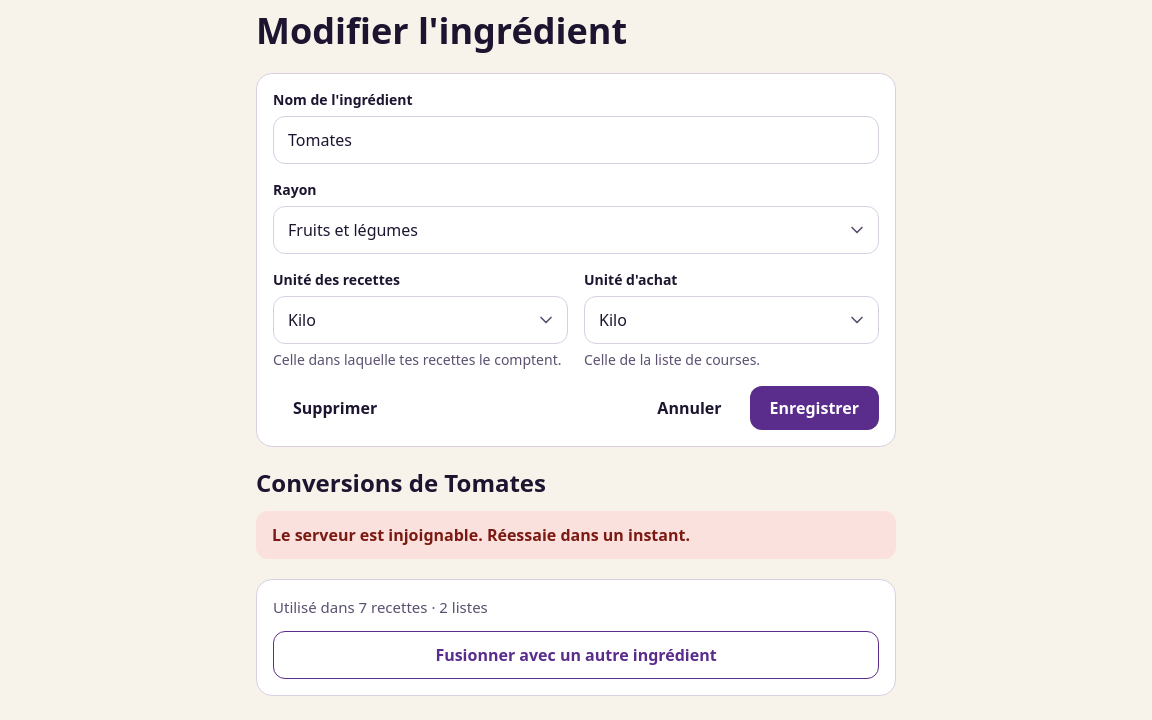
Test case: la fusion depuis la fiche d'un ingrédient › la feuille de choix › dit une phrase courte quand rien ne ressemble
(page scrolled)
Expected: the text "Utilisé dans 7 recettes · 2 listes" is shown, [273,597,488,617]
Click the button "Fusionner avec un autre ingrédient" at (576, 654), box [273,630,879,678]
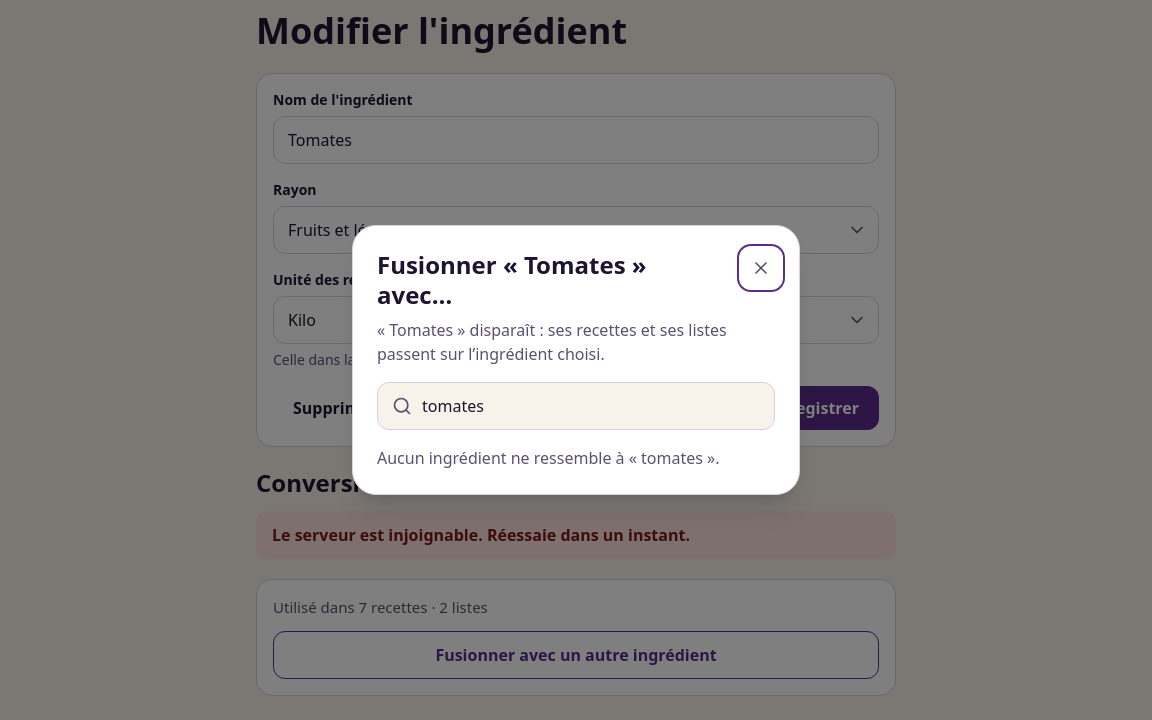
Expected: the dialog is shown, [352,225,800,495]
Expected: the dialog shows "Aucun ingrédient ne ressemble à « tomates ».", [377,447,720,469]
